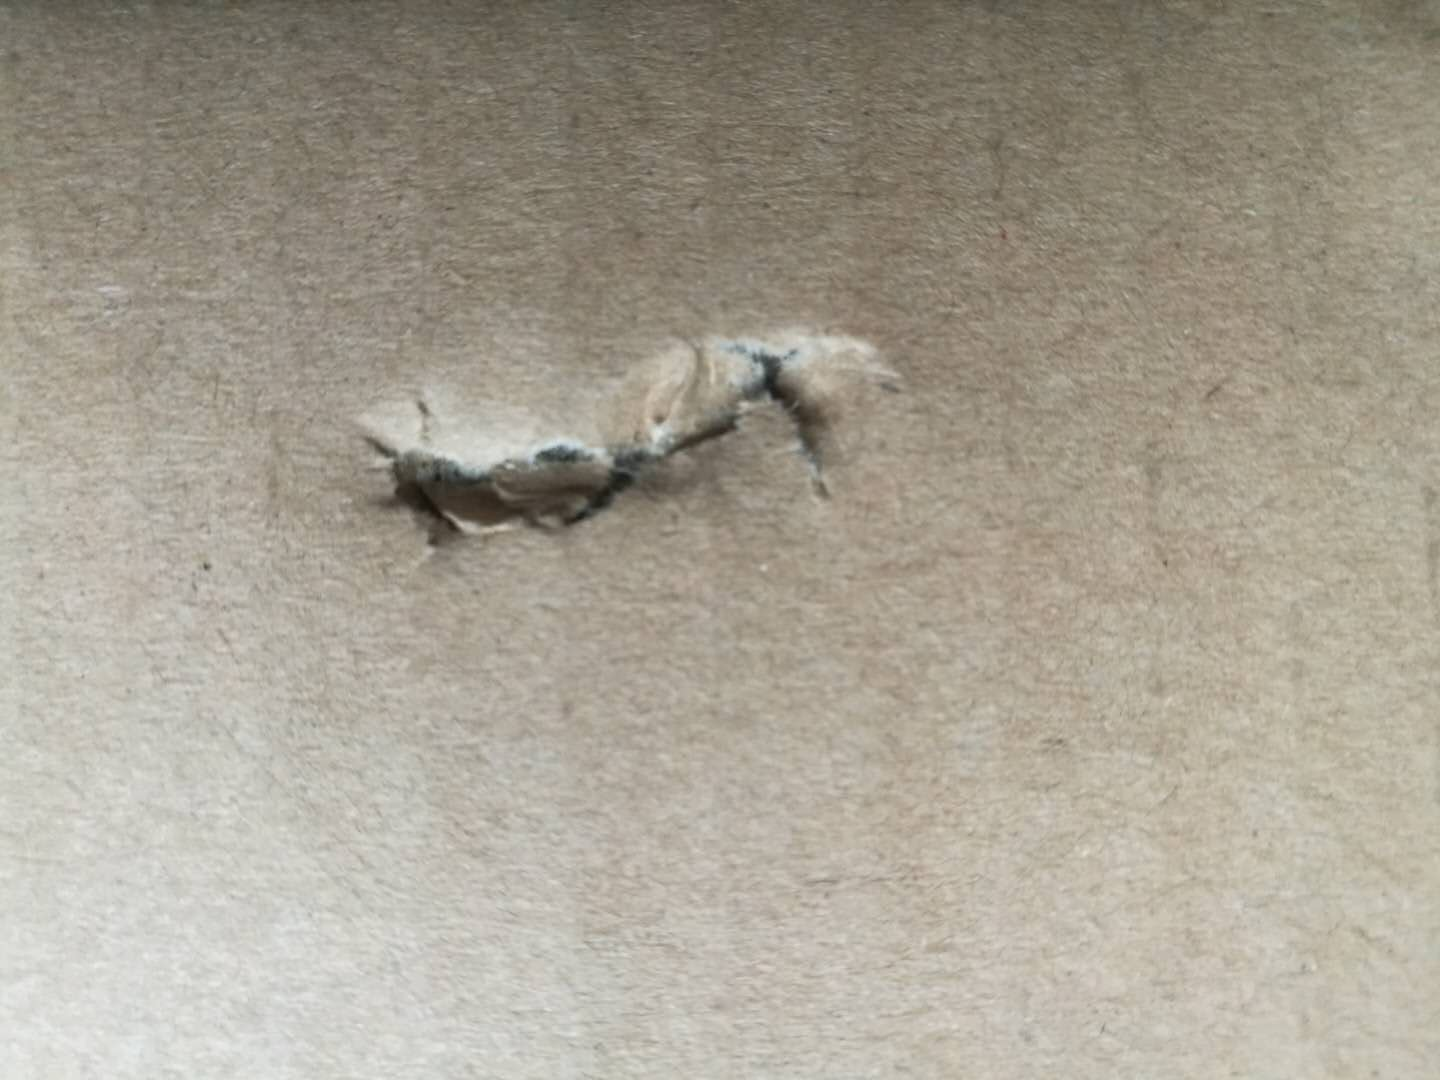defect: (320, 298, 950, 585)
